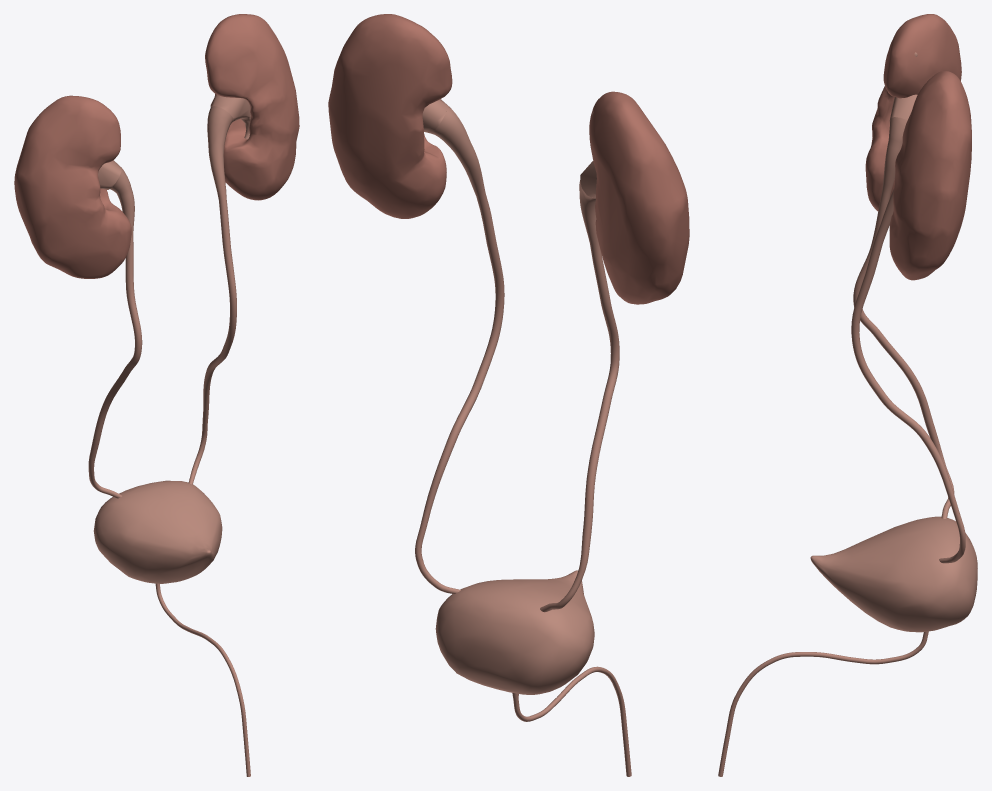
File: urinary.glb
The picture shows the model from 3 angles, left to right: view 1: azimuth 30°, elevation 25°; view 2: azimuth 150°, elevation 25°; view 3: azimuth 270°, elevation 25°; orthographic projection. The views are drawn at different scales.
Parts seen in each view (by area): view 1: bp-FMA7204, bp-FMA7205, za-7a34e34b333d73db, za-da3849b6acf40da2, za-432c02ae207ff7ef, za-0eca9a51ae10000d, za-e6b130219714530c, za-042615d3793795d5; view 2: bp-FMA7205, bp-FMA7204, za-7a34e34b333d73db, za-da3849b6acf40da2, za-432c02ae207ff7ef, za-0eca9a51ae10000d; view 3: za-7a34e34b333d73db, bp-FMA7205, bp-FMA7204, za-da3849b6acf40da2, za-432c02ae207ff7ef, za-0eca9a51ae10000d, za-042615d3793795d5.
Part boxes in pixels (x1,y1,x2,y2): bp-FMA7204: (14, 95, 131, 278); bp-FMA7205: (205, 14, 299, 200); za-7a34e34b333d73db: (93, 480, 222, 583); za-da3849b6acf40da2: (188, 106, 236, 484); za-432c02ae207ff7ef: (88, 168, 142, 498); za-0eca9a51ae10000d: (155, 583, 250, 776); za-e6b130219714530c: (210, 94, 250, 139); za-042615d3793795d5: (98, 160, 121, 189); bp-FMA7205: (328, 14, 452, 218); bp-FMA7204: (589, 91, 689, 304); za-7a34e34b333d73db: (435, 570, 594, 694); za-da3849b6acf40da2: (415, 106, 504, 594); za-432c02ae207ff7ef: (540, 180, 619, 612); za-0eca9a51ae10000d: (512, 666, 631, 776); za-7a34e34b333d73db: (810, 516, 977, 632); bp-FMA7205: (889, 71, 971, 280); bp-FMA7204: (865, 14, 961, 211); za-da3849b6acf40da2: (851, 189, 965, 563); za-432c02ae207ff7ef: (853, 117, 954, 518); za-0eca9a51ae10000d: (718, 631, 928, 776); za-042615d3793795d5: (890, 52, 917, 120).
Bounding box in the file's own units: 0.1813 × 0.4116 × 0.1293.
